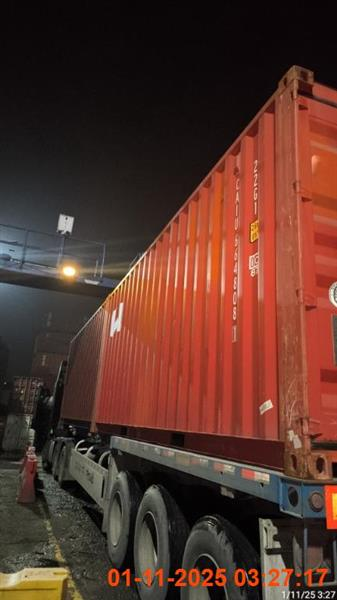broken: (38, 66, 335, 598)
